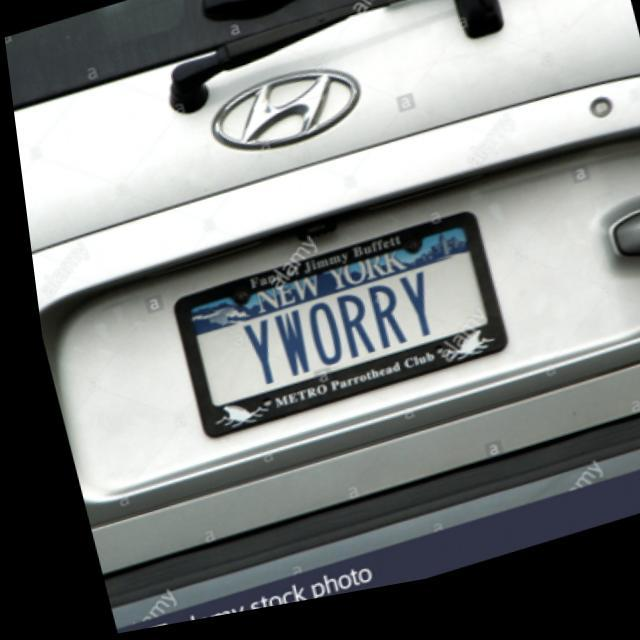license_plate: (176, 238, 479, 413)
